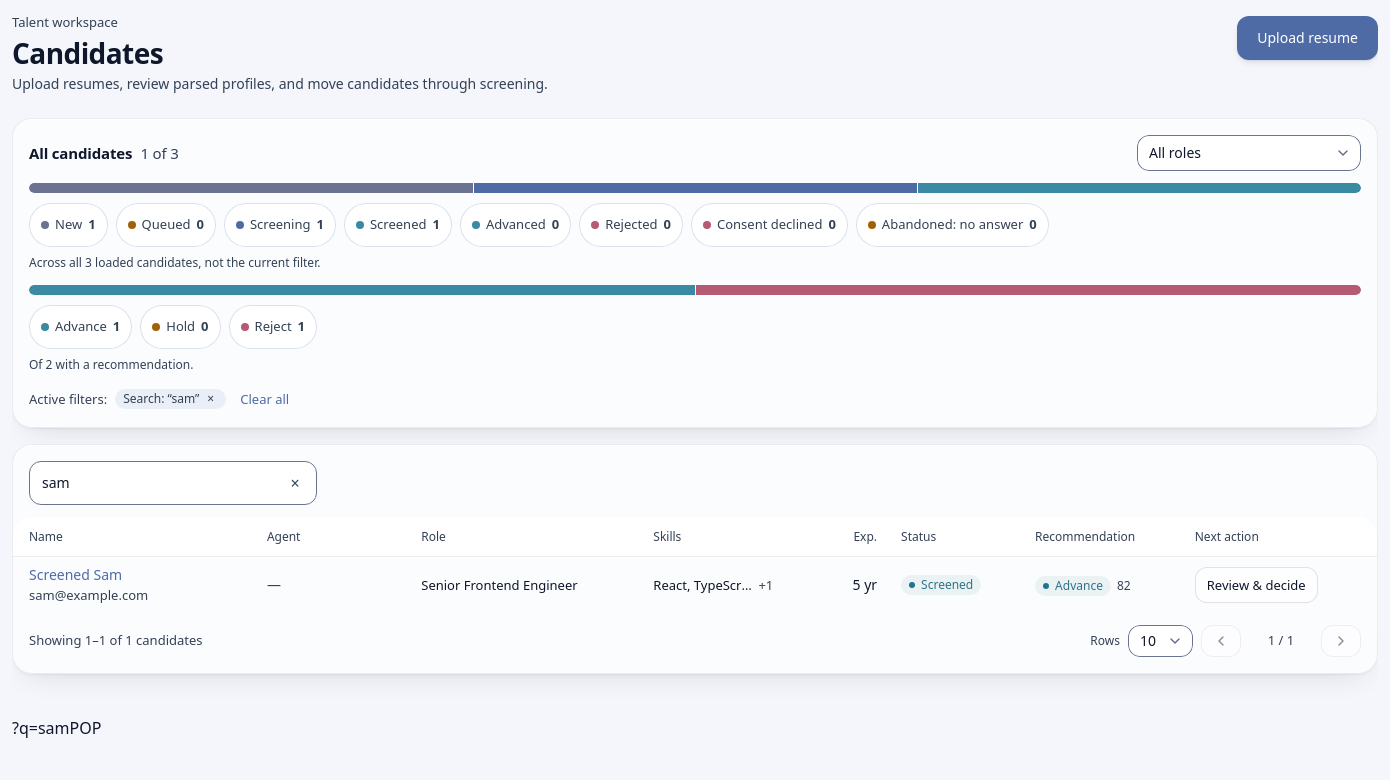
CandidatesPage search › clears from the clear button, returning focus to the box
Check: the link "Screened Sam" is shown, box [29, 565, 122, 584]
Step 1. Click the button named "Clear search" → coordinates (295, 483), box [273, 461, 317, 505]
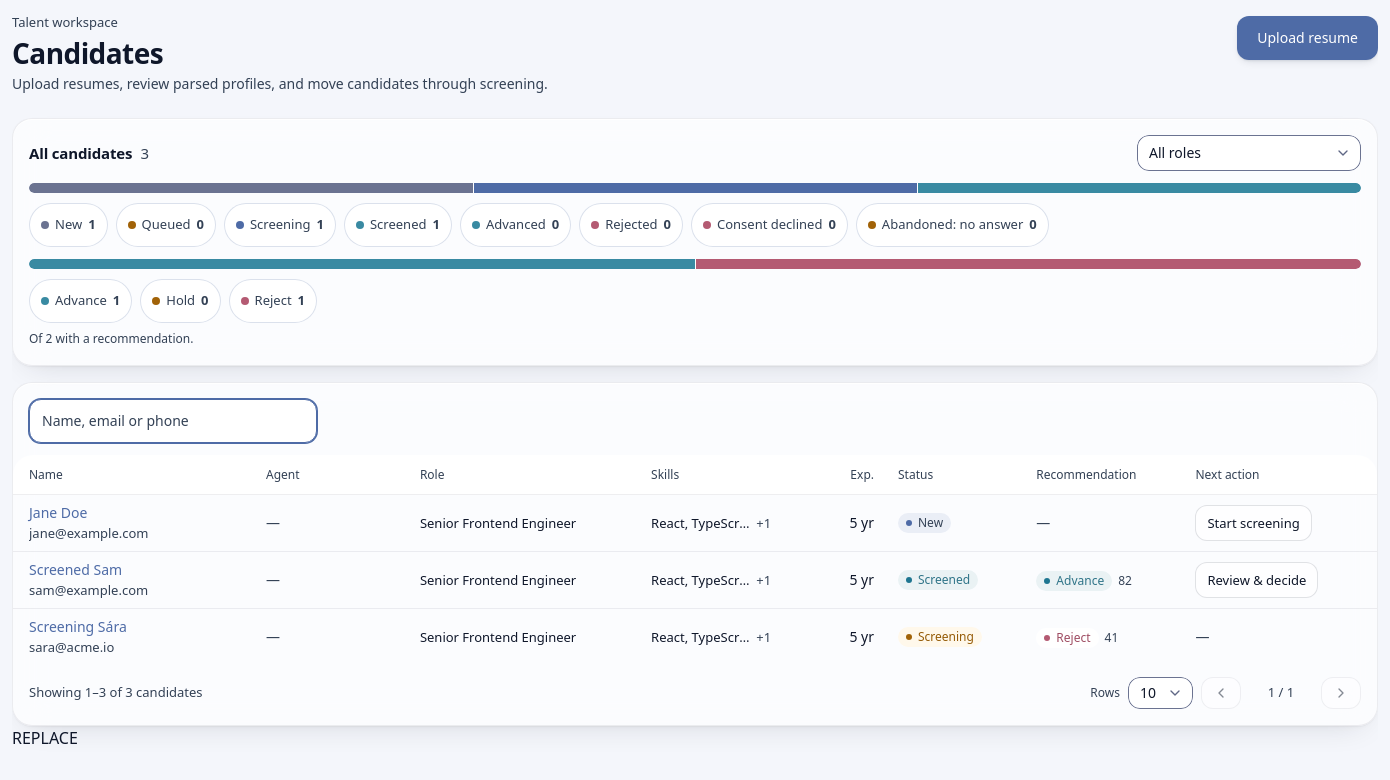
Check: the search field named "Search candidates" is empty, box [29, 399, 317, 443]
